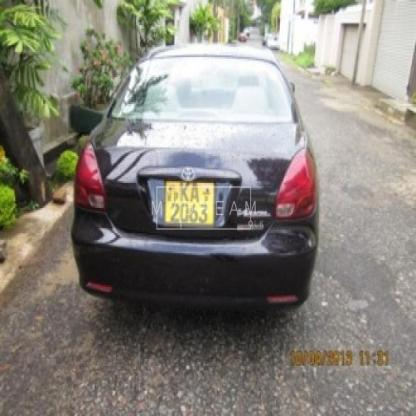car back: (63, 43, 324, 318)
number plate: (164, 180, 217, 226)
